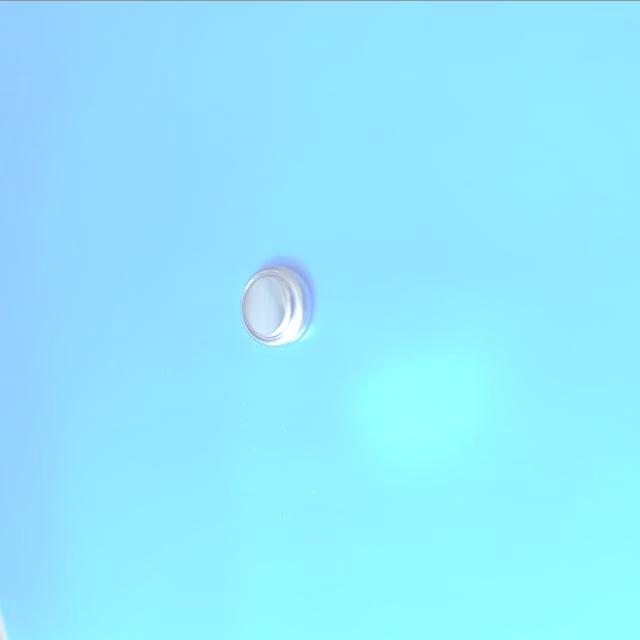COIN: (233, 264, 314, 346)
